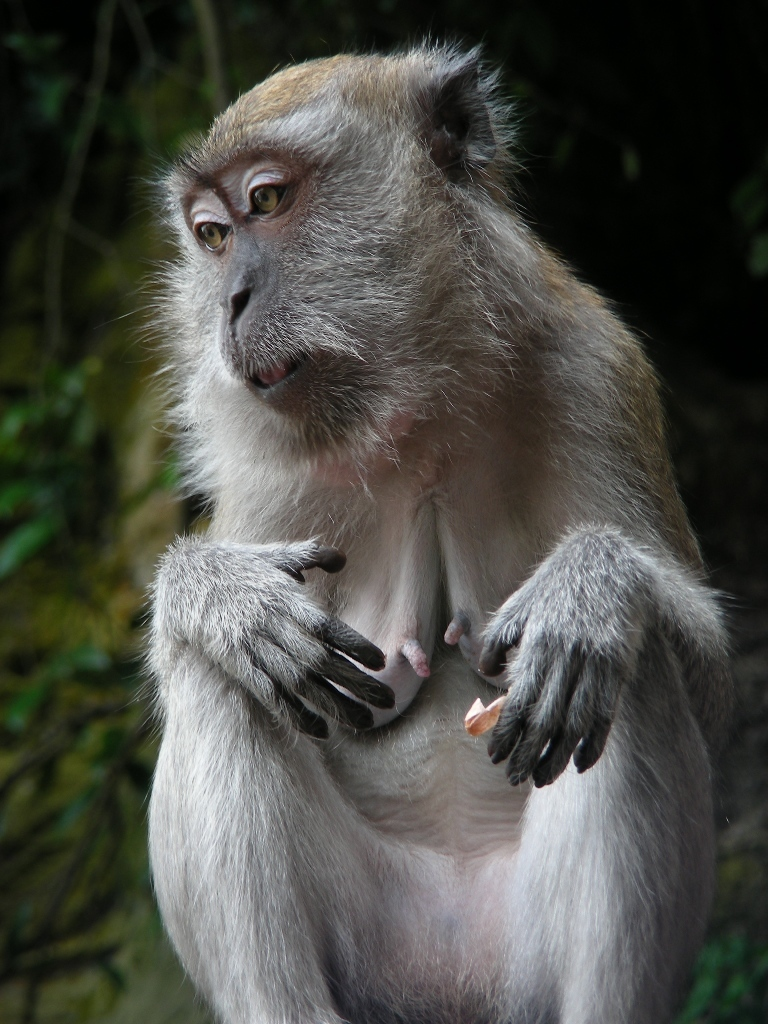face: (192, 25, 430, 547)
